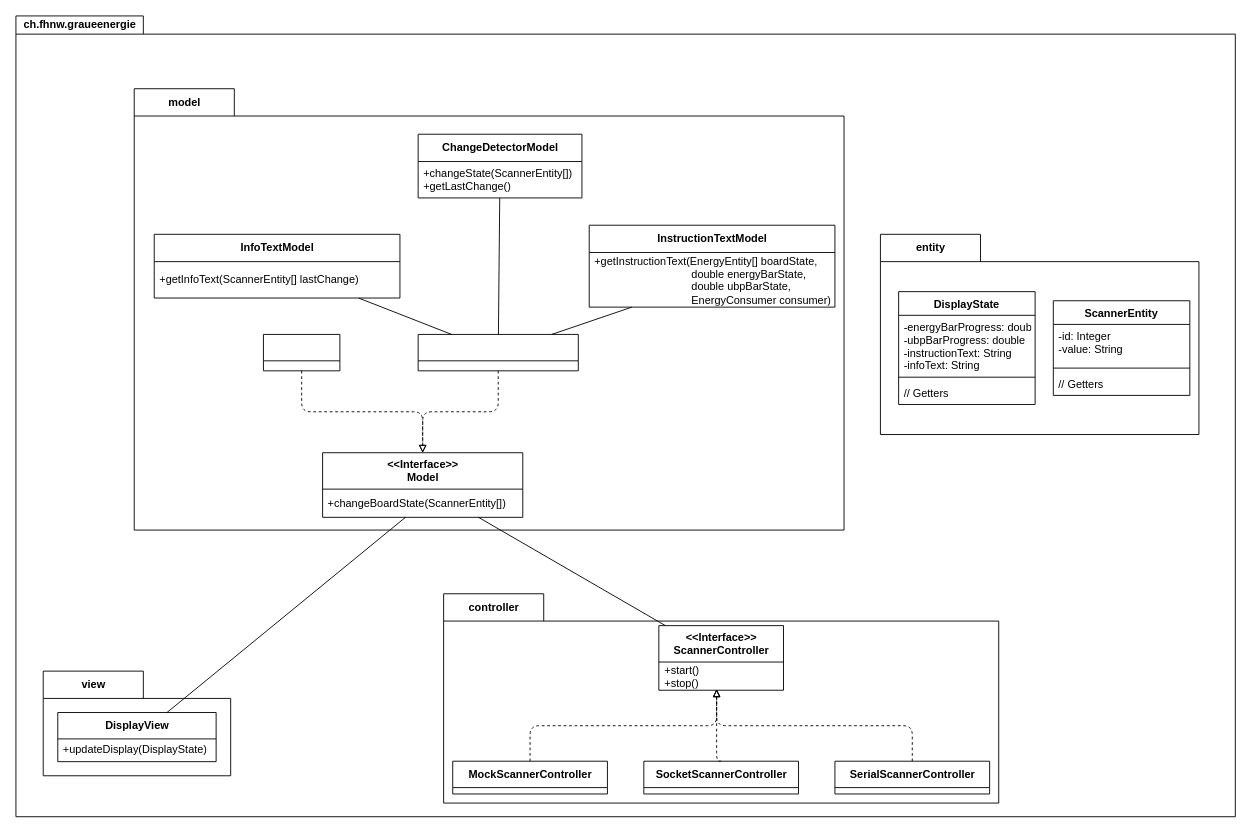
The diagram is 1251 pixels wide and 833 high, and some of its shapes have lost their labels. Here are the shapes that lost their labels. From the top down, the centre of each, then its label:
At (301,352): "MockModel".
At (497,352): "EnergyCalculatorModel".
